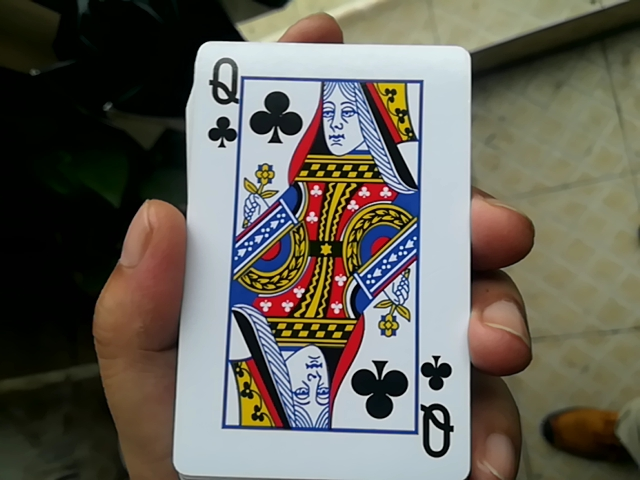mh q: (167, 29, 471, 469)
